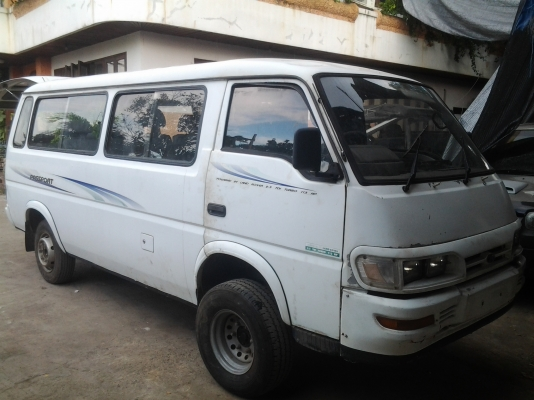van: (5, 55, 522, 395)
